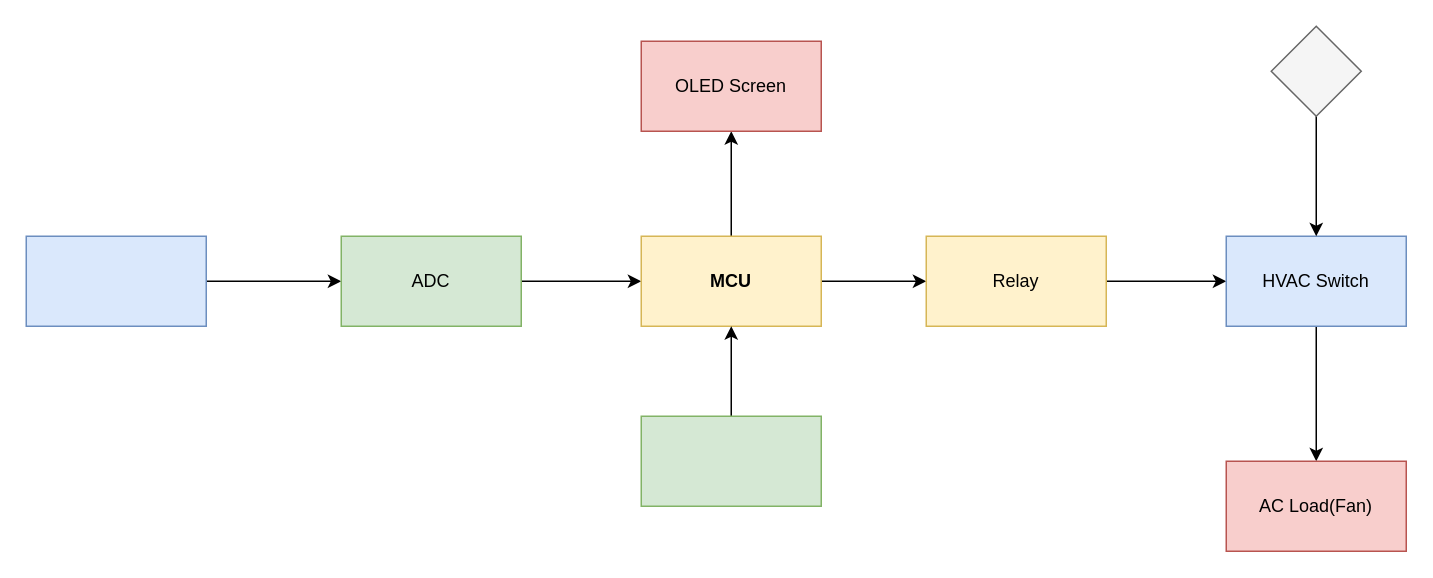
This 1433x578 diagram has some shape labels left out. The shapes that lost their labels are listed below. From the top down, each one's centre as x and y in pixels, then its label:
pixel 1315 70: 230V AC
pixel 115 280: Temperature Sensor
pixel 730 460: Rotary Encoder
